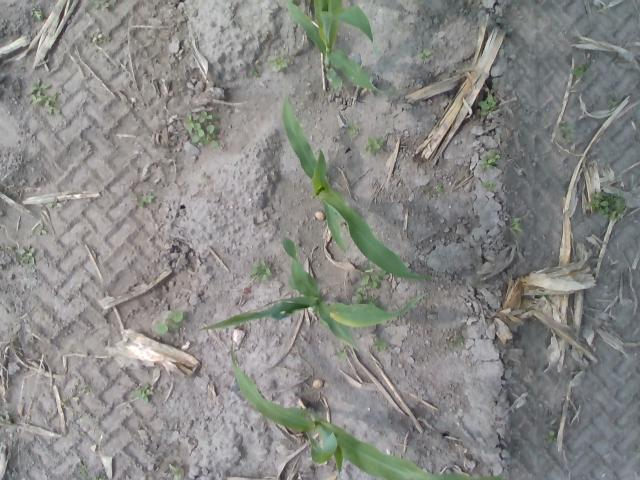Maize: (229, 338, 506, 479), (283, 94, 428, 278), (196, 235, 428, 349), (285, 0, 404, 94), (312, 0, 374, 54)
Weeds: (184, 111, 218, 146), (154, 308, 183, 335), (592, 189, 622, 211), (249, 258, 274, 281), (29, 78, 51, 102), (361, 266, 382, 288), (44, 92, 60, 114), (367, 134, 384, 152), (508, 213, 522, 234), (560, 119, 572, 142), (19, 246, 36, 262), (478, 97, 495, 113), (138, 380, 152, 398), (93, 0, 118, 10), (170, 463, 184, 480), (272, 56, 290, 69), (31, 7, 45, 23), (415, 50, 432, 63), (372, 335, 384, 352), (486, 150, 500, 164), (450, 334, 464, 347), (142, 192, 156, 204), (90, 28, 102, 42), (572, 66, 584, 78), (543, 431, 555, 442), (78, 465, 88, 477), (438, 181, 446, 195), (483, 183, 498, 190), (248, 66, 258, 76), (336, 348, 346, 358), (347, 124, 358, 132), (37, 226, 45, 236), (609, 100, 617, 108), (96, 475, 106, 480)
